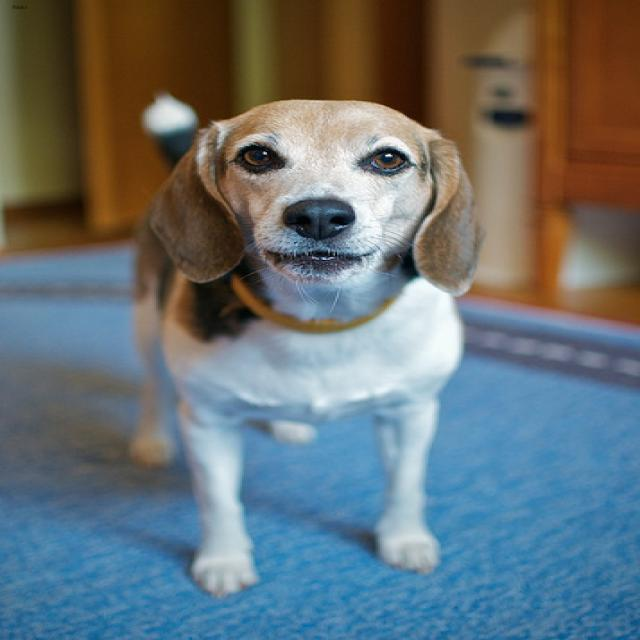dog-beagle: (117, 79, 495, 617)
